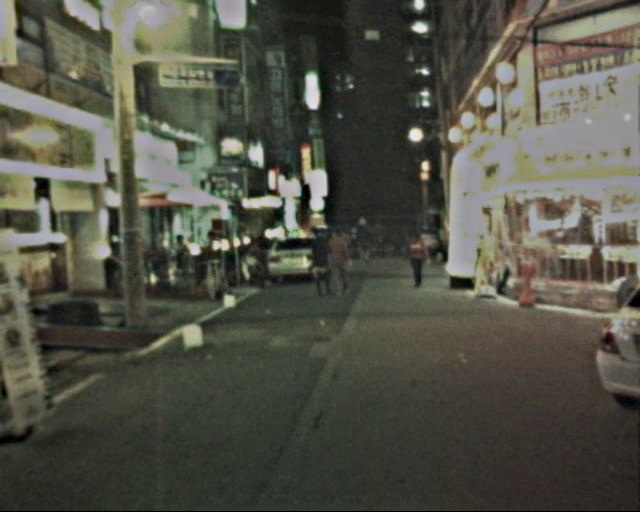person: (321, 223, 351, 300), (303, 226, 333, 302), (402, 225, 431, 291), (350, 215, 374, 268), (371, 219, 389, 263), (391, 231, 403, 266)
